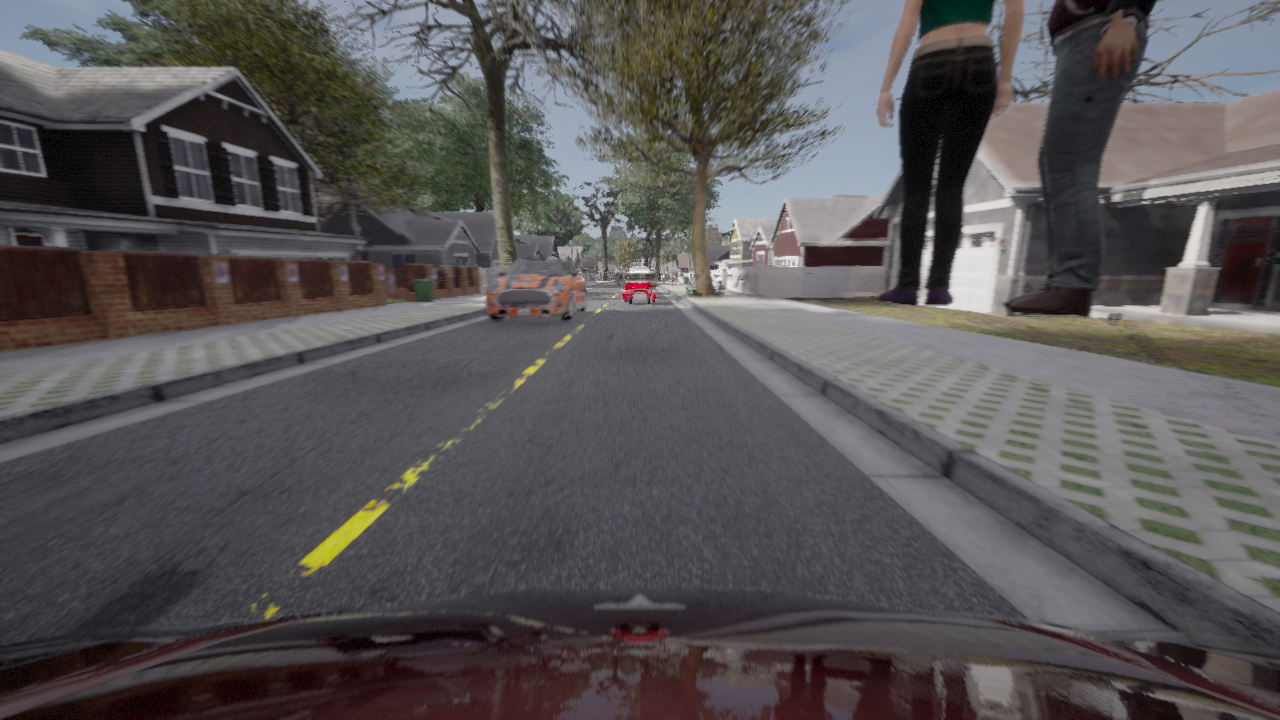cyclist: (0, 588, 1279, 719), (486, 257, 586, 320), (622, 270, 657, 304), (624, 269, 655, 279)
pedestrian: (1003, 0, 1156, 316), (877, 0, 1025, 305)
